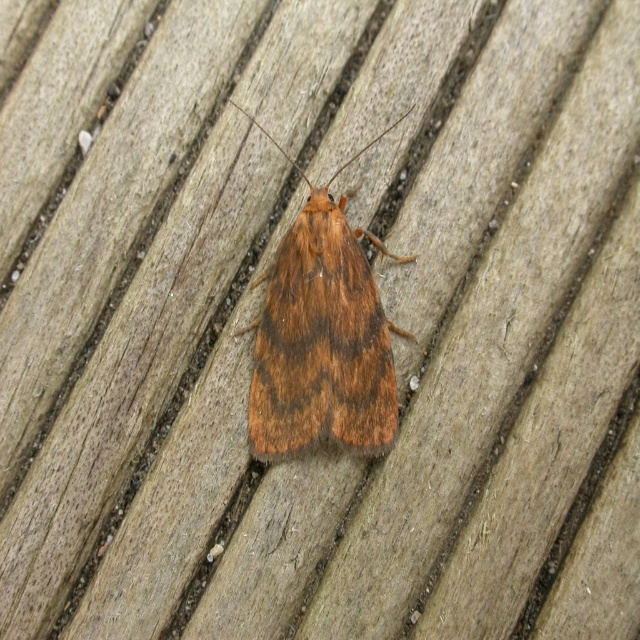Moths and butterflies: (227, 97, 417, 457)
